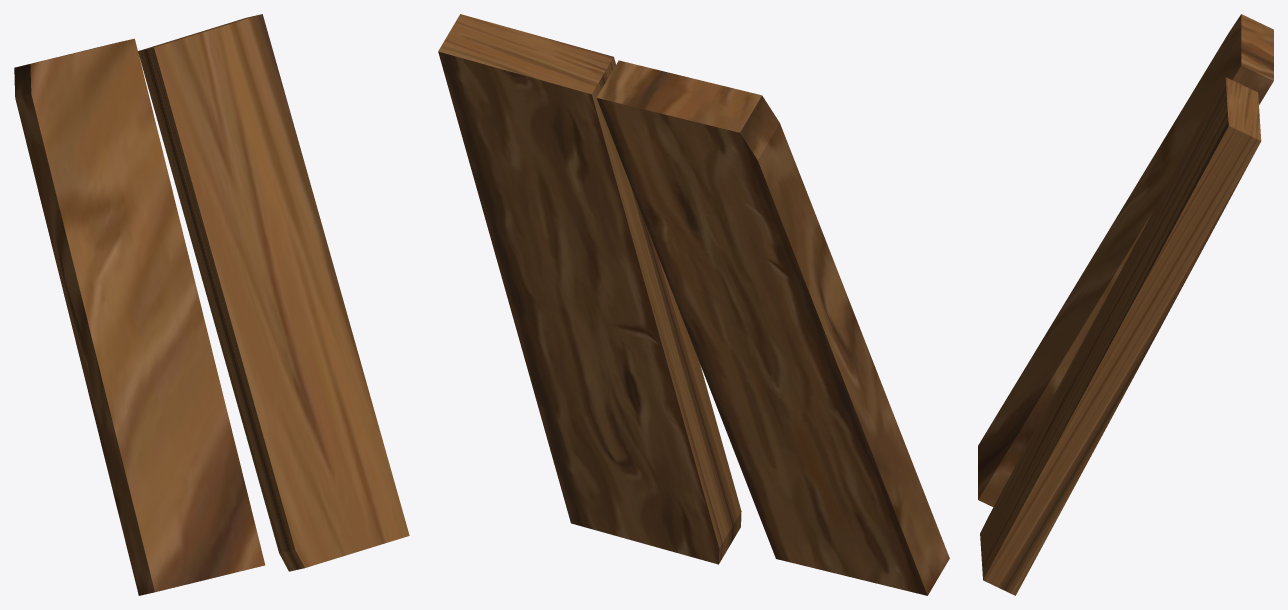
The model's file is woods1.fbx.
3 views of the same model, side by side, from view 1: azimuth 30°, elevation 25°; view 2: azimuth 150°, elevation 25°; view 3: azimuth 270°, elevation 25° (orthographic). The views are drawn at different scales.
Parts seen in each view (by area): view 1: Cube.005; view 2: Cube.005; view 3: Cube.005.
Boxes of the visible parts, x1,y1,x2,y2 form: Cube.005: [14, 14, 409, 595]; Cube.005: [438, 14, 949, 595]; Cube.005: [978, 14, 1273, 595].
Size of the model in its own units: 109 by 187 by 108.
